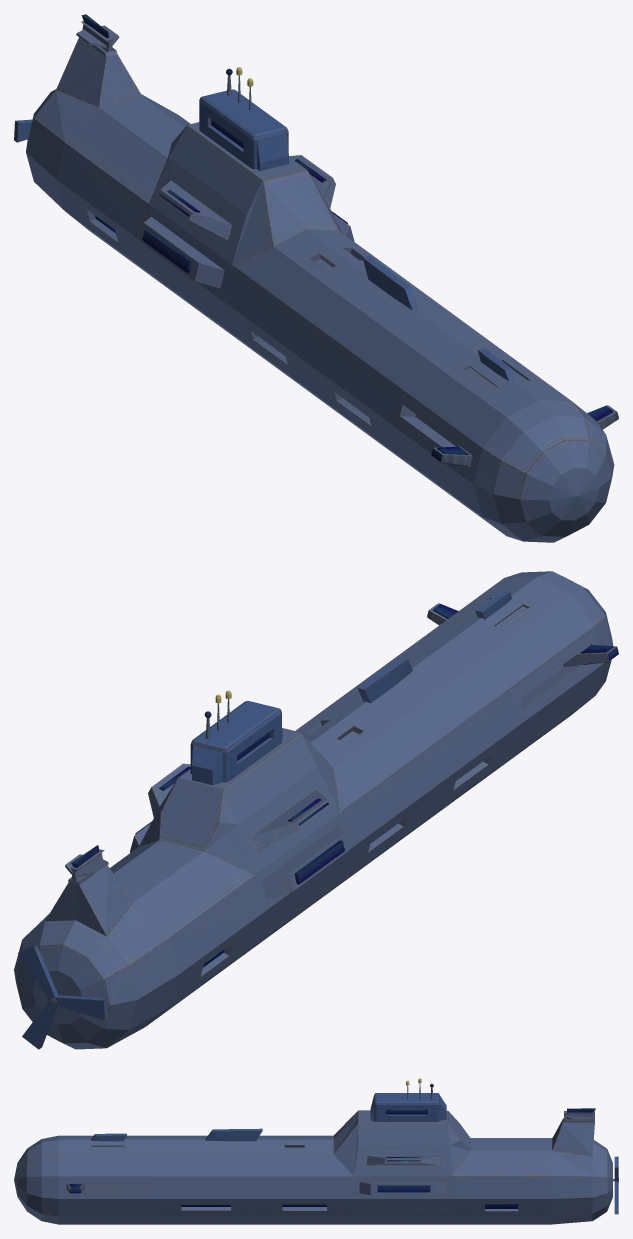
File: building-submarine.glb
3 renders of one model, top to bottom at view 1: azimuth 30°, elevation 25°; view 2: azimuth 150°, elevation 25°; view 3: azimuth 270°, elevation 25°, orthographic. The views are drawn at different scales.
Parts seen in each view (by area): view 1: Node; view 2: Node; view 3: Node.
Boxes of the visible parts, x1,y1,x2,y2 form: Node: [14, 14, 618, 542]; Node: [14, 571, 618, 1049]; Node: [14, 1078, 618, 1224].
Bounding box in the file's own units: 136 × 178 × 677.
Materials: 1 (1 with a texture image).
